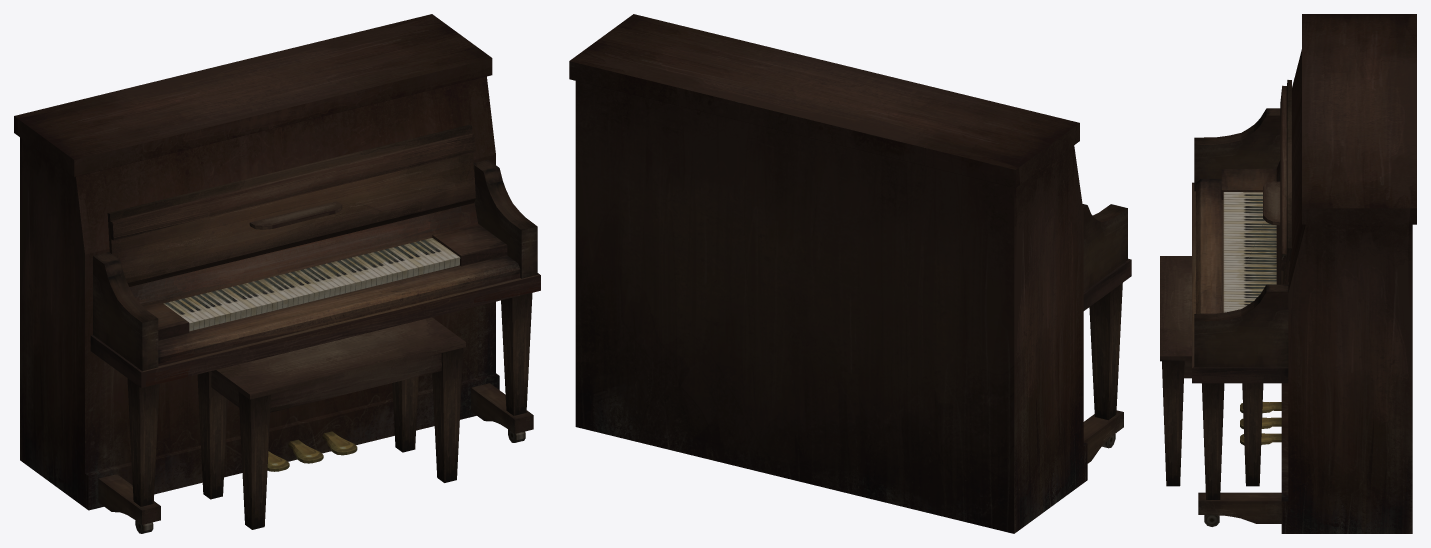
Rendered from Piano02.fbx.
The picture shows the model from 3 angles, left to right: view 1: azimuth 30°, elevation 25°; view 2: azimuth 150°, elevation 25°; view 3: azimuth 270°, elevation 25°; orthographic projection. The views are drawn at different scales.
Parts seen in each view (by area): view 1: Piano02, Piano_stool01; view 2: Piano02; view 3: Piano02, Piano_stool01.
Boxes of the visible parts, left/top/right/bottom form: Piano02: left=14, top=14, right=540, bottom=533; Piano_stool01: left=197, top=317, right=465, bottom=529; Piano02: left=569, top=14, right=1131, bottom=533; Piano02: left=1192, top=14, right=1416, bottom=533; Piano_stool01: left=1160, top=256, right=1263, bottom=486.
Bounding box in the file's own units: 1.54 × 1.21 × 0.8624.
Materials: 3 (3 with a texture image).
